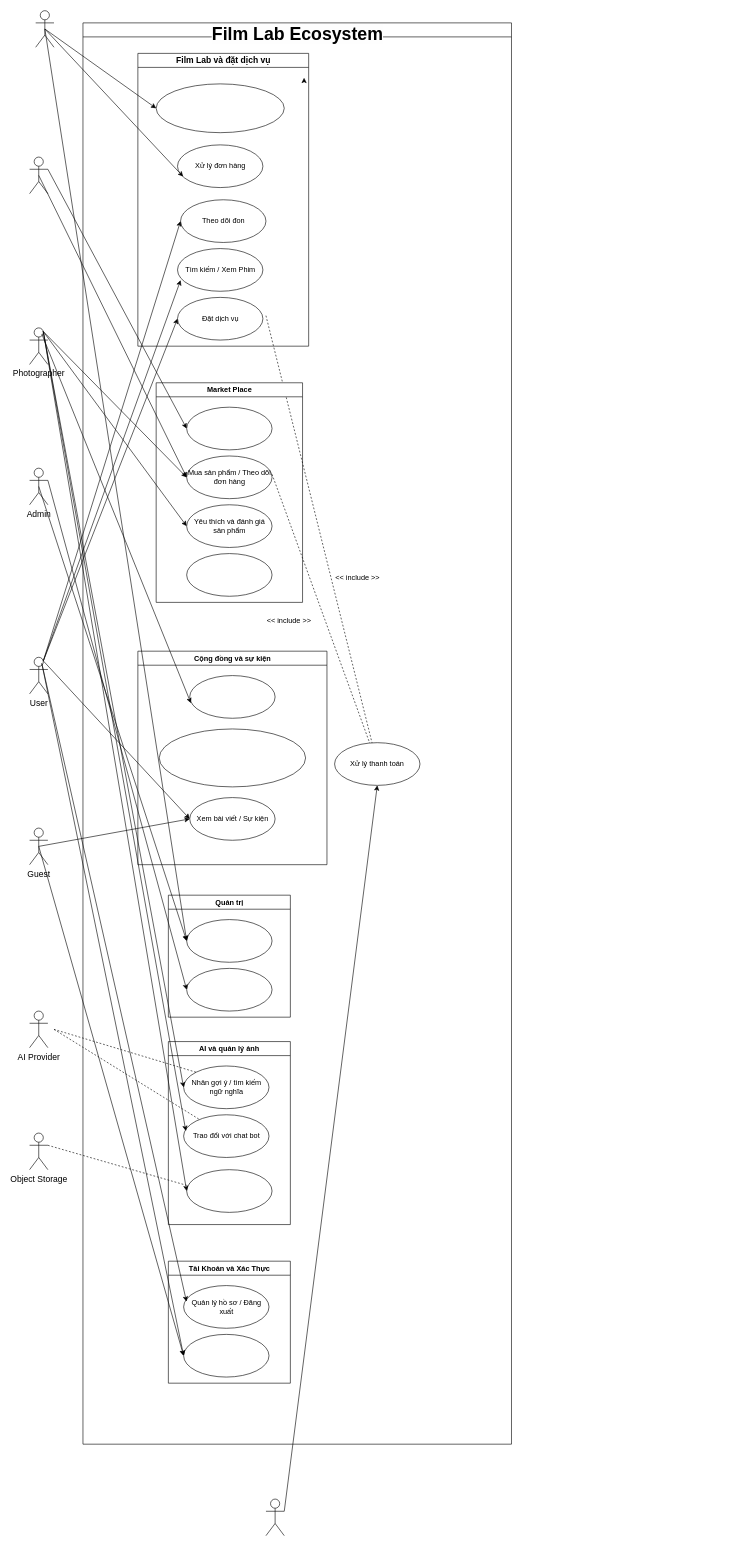
Some shapes in this 742 by 1561 pixel diagram are drawn without their labels. The shapes that lost their labels are listed below. From the top down, each one's centre as x and y in pixels, then its label:
(44,28): Lab Ow ner
(220,108): Quản lý dịch vụ / Gói dịch vụ
(38,175): Seller
(229,428): Quản lý sản phẩm đang bán
(229,574): Tìm kiếm / Xem sản phẩm
(232,696): Đăng Bài / Bình Luận
(232,757): Tạo sự kiện / Đăng ký tham gia
(229,940): Xem báo cáo và vận hành
(229,989): Quản lý và giám sát hệ thống
(229,1190): tải Lên và Phân tích ảnh
(226,1355): Đăng Ký / Đăng Nhập
(274,1517): Payment Provider
